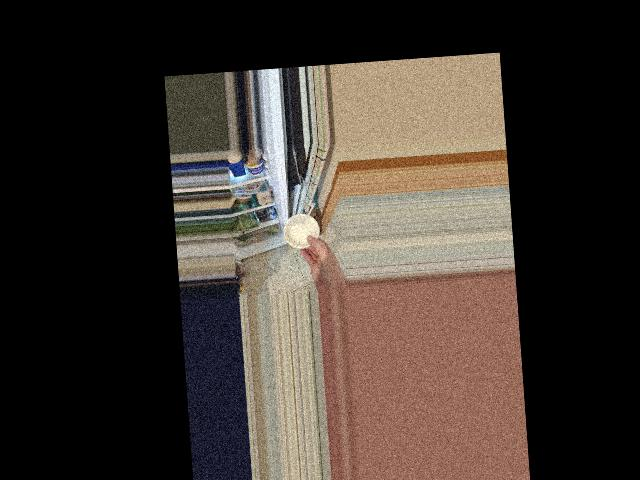cotage: (284, 212, 318, 245)
